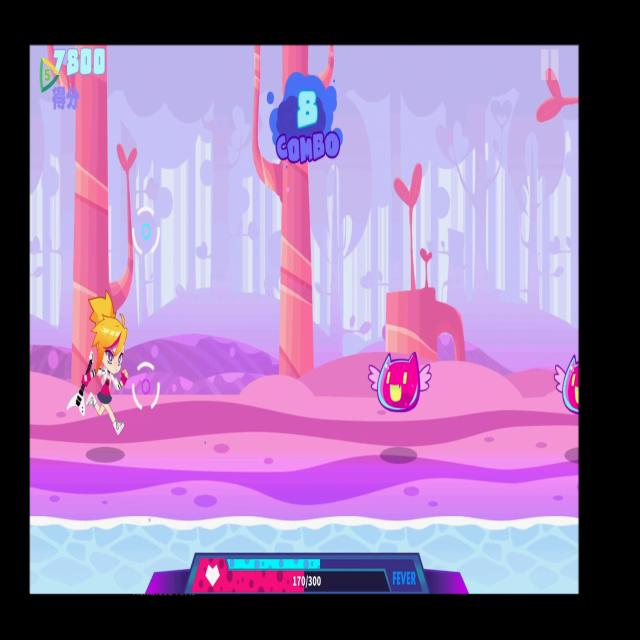Ground Monster - Red Devil: (360, 344, 434, 419)
